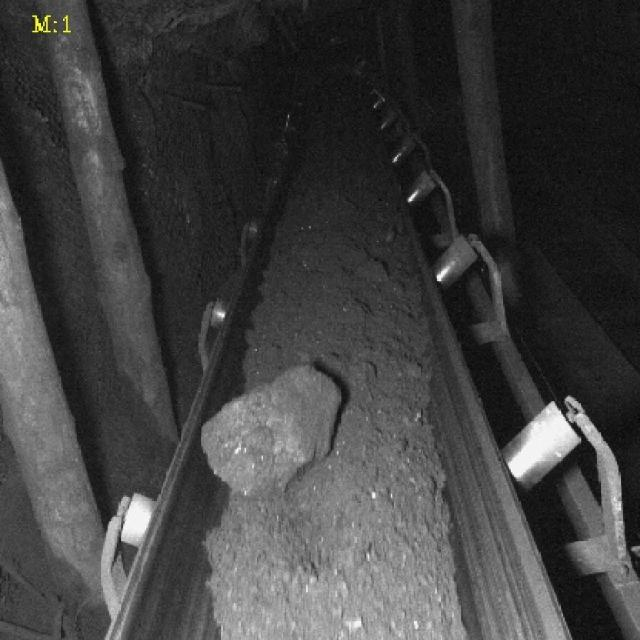large_sized_coal: (200, 371, 340, 495)
